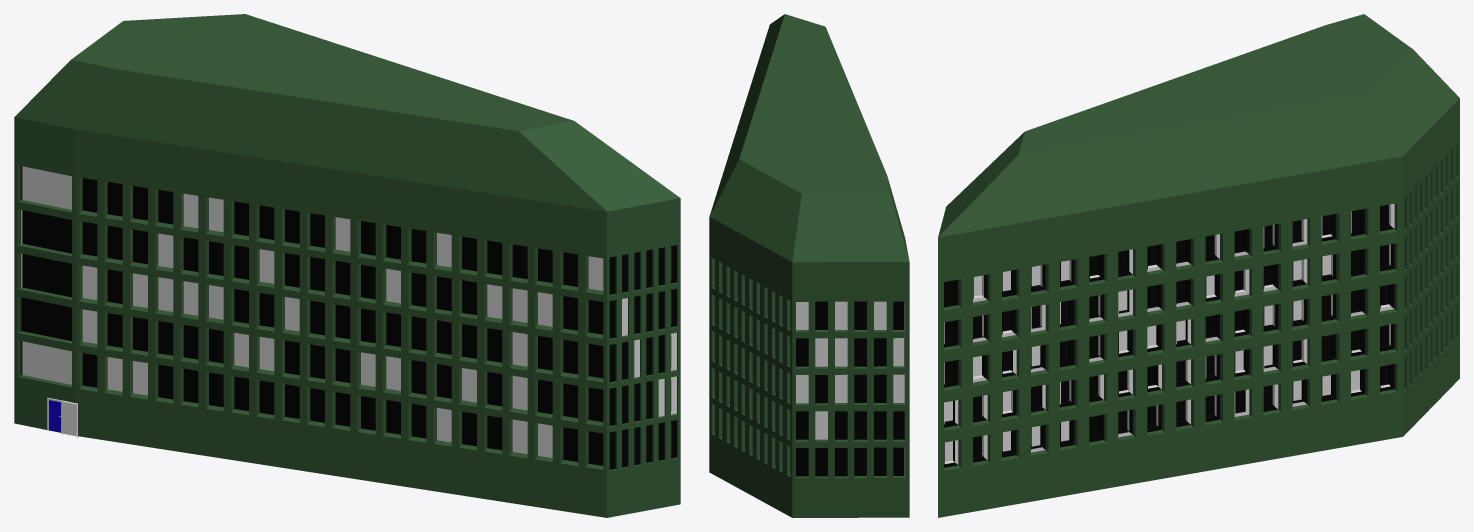
File: ArcadiumComplexII.fbx
3 renders of one model, left to right at view 1: azimuth 30°, elevation 25°; view 2: azimuth 150°, elevation 25°; view 3: azimuth 270°, elevation 25°, orthographic. The views are drawn at different scales.
Parts seen in each view (by area): view 1: ArcadiumComplexII; view 2: ArcadiumComplexII; view 3: ArcadiumComplexII.
Part boxes in pixels (<box>): ArcadiumComplexII: <box>14,14,680,517</box>; ArcadiumComplexII: <box>709,14,909,517</box>; ArcadiumComplexII: <box>938,14,1459,517</box>.
Bounding box in the file's own units: 2848 × 2398 × 3372.
